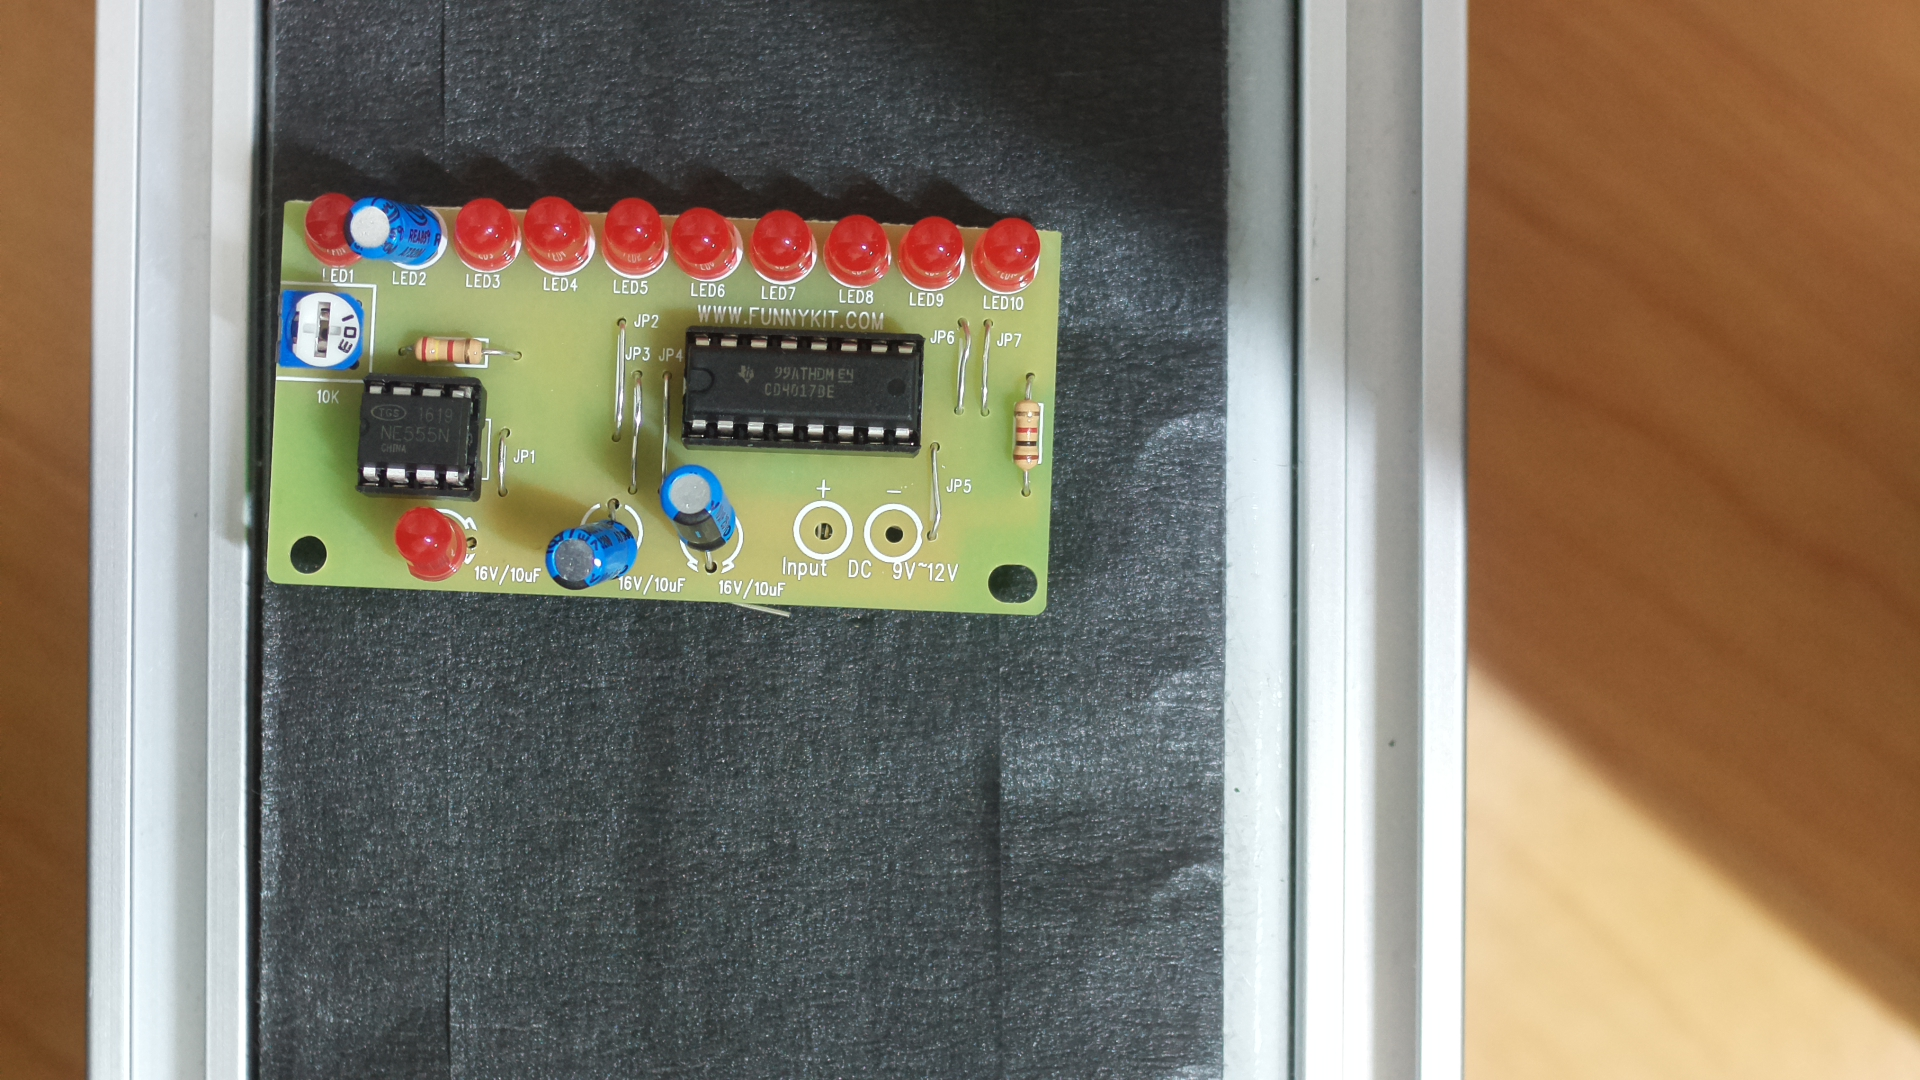B_Misordered: (260, 176, 1067, 618)
